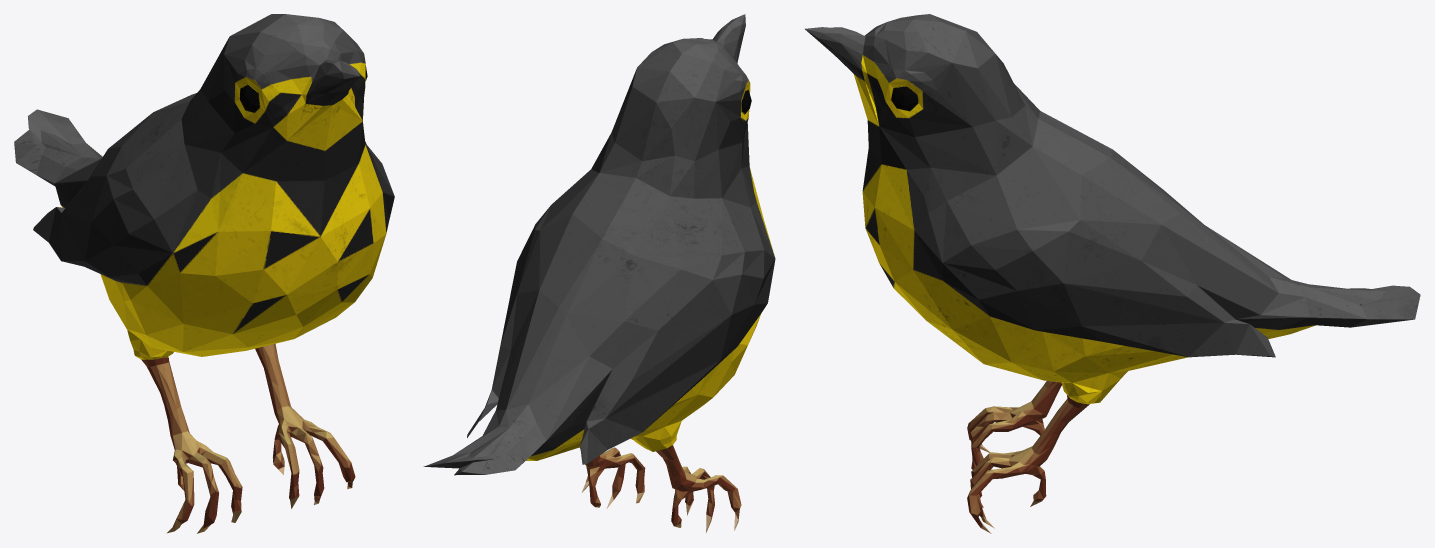
File: Canada.gltf
The picture shows the model from 3 angles, left to right: view 1: azimuth 30°, elevation 25°; view 2: azimuth 150°, elevation 25°; view 3: azimuth 270°, elevation 25°; orthographic projection. The views are drawn at different scales.
Size of the model in its own units: 0.8238 by 1.62 by 1.88.
1 material, 1 textured.
